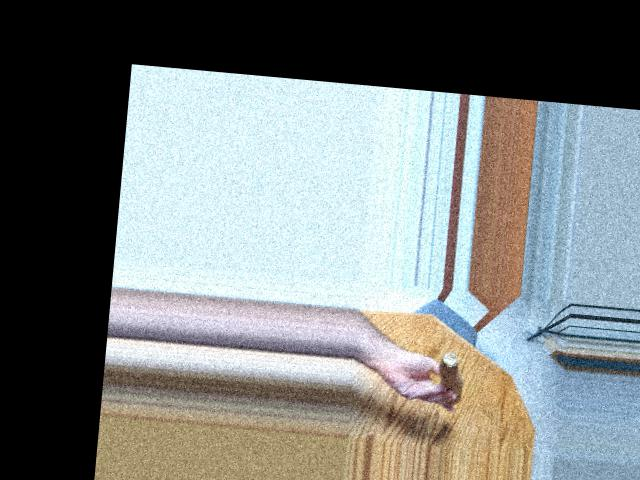sweet_potato: (422, 343, 468, 407)
